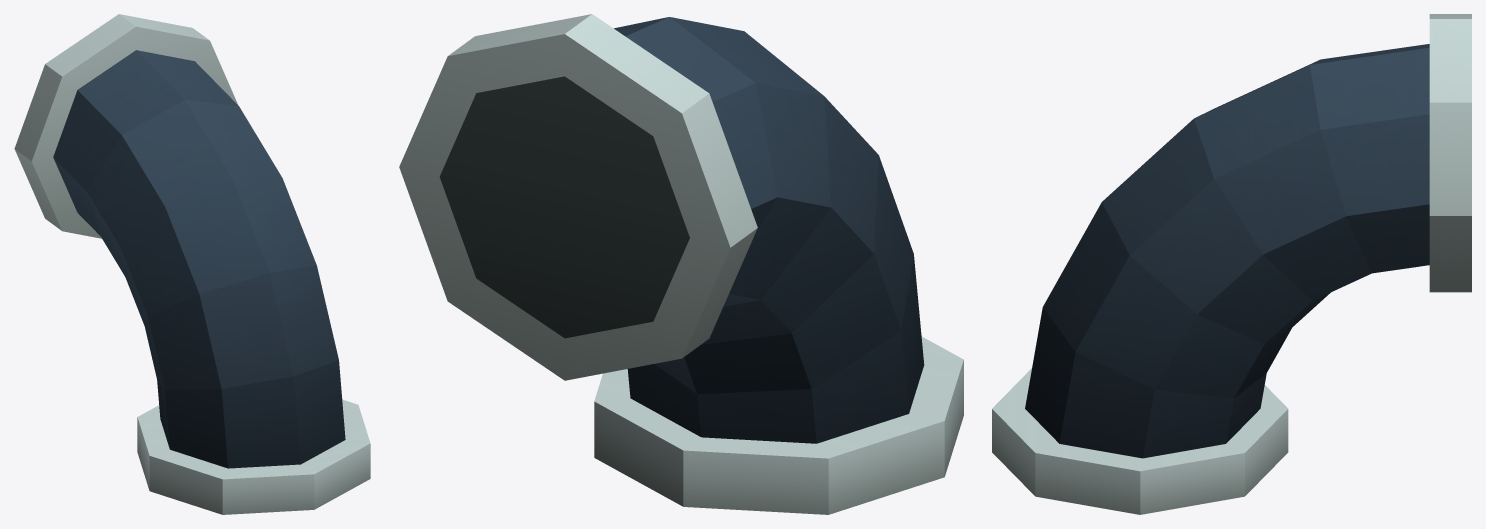
Rendered from pipe_002.fbx.
The picture shows the model from 3 angles, left to right: view 1: azimuth 30°, elevation 25°; view 2: azimuth 150°, elevation 25°; view 3: azimuth 270°, elevation 25°; orthographic projection. The views are drawn at different scales.
Parts seen in each view (by area): view 1: pipe.002; view 2: pipe.002; view 3: pipe.002.
Part boxes in pixels (<box>): pipe.002: <box>14,14,370,514</box>; pipe.002: <box>399,14,963,514</box>; pipe.002: <box>992,14,1471,514</box>.
Size of the model in its own units: 101 by 163 by 164.
